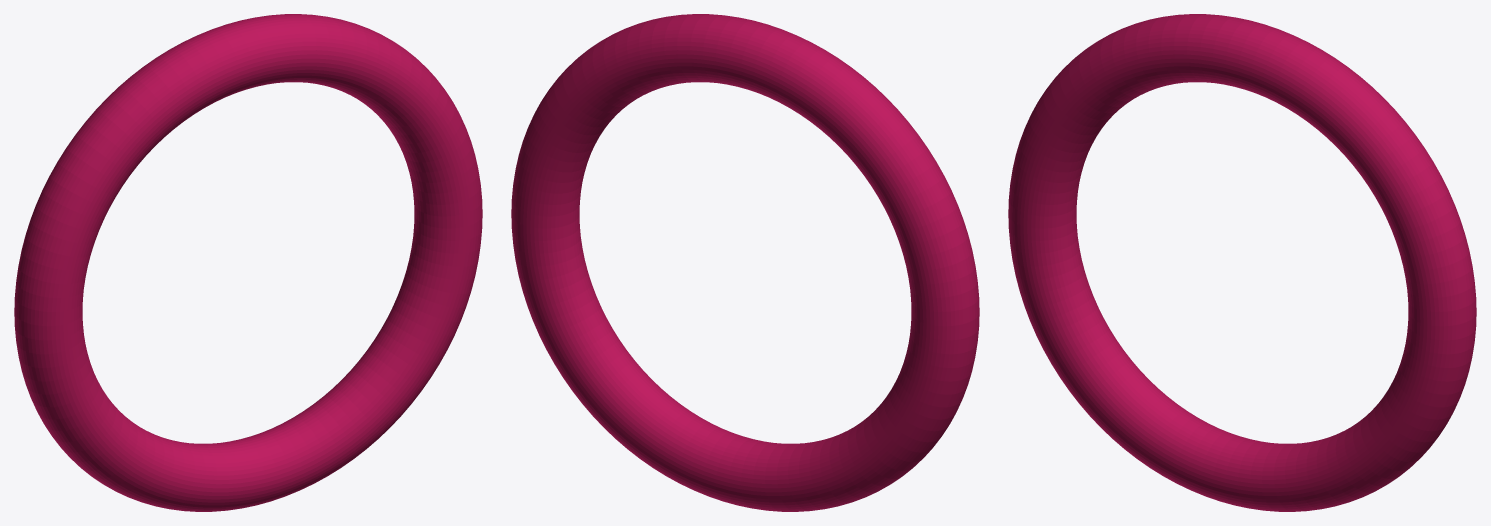
3 renders of one model, left to right at view 1: azimuth 30°, elevation 25°; view 2: azimuth 150°, elevation 25°; view 3: azimuth 330°, elevation 25°, orthographic.
Parts seen in each view (by area): view 1: world; view 2: world; view 3: world.
Part boxes in pixels (left/top/right/bottom): world: left=14, top=14, right=482, bottom=511; world: left=511, top=14, right=979, bottom=511; world: left=1008, top=14, right=1476, bottom=511.
Size of the model in its own units: 32.13 by 32.13 by 4.13.
